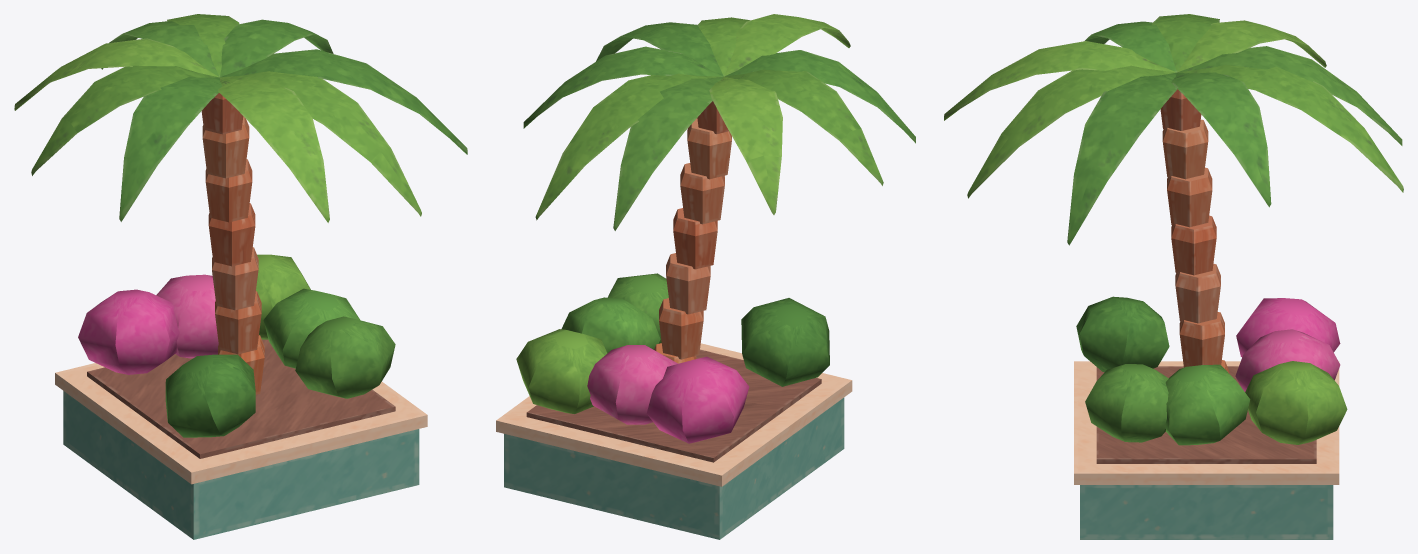
File: palm_bed_low.fbx
The picture shows the model from 3 angles, left to right: view 1: azimuth 30°, elevation 25°; view 2: azimuth 150°, elevation 25°; view 3: azimuth 270°, elevation 25°; orthographic projection. The views are drawn at different scales.
Visible parts, largest first — view 1: palm_bed; view 2: palm_bed; view 3: palm_bed.
Part boxes in pixels (left/top/right/bottom): palm_bed: left=14, top=14, right=467, bottom=539; palm_bed: left=496, top=14, right=915, bottom=539; palm_bed: left=944, top=14, right=1403, bottom=539.
Size of the model in its own units: 9.84 by 10.85 by 10.88.
1 material, 1 textured.
